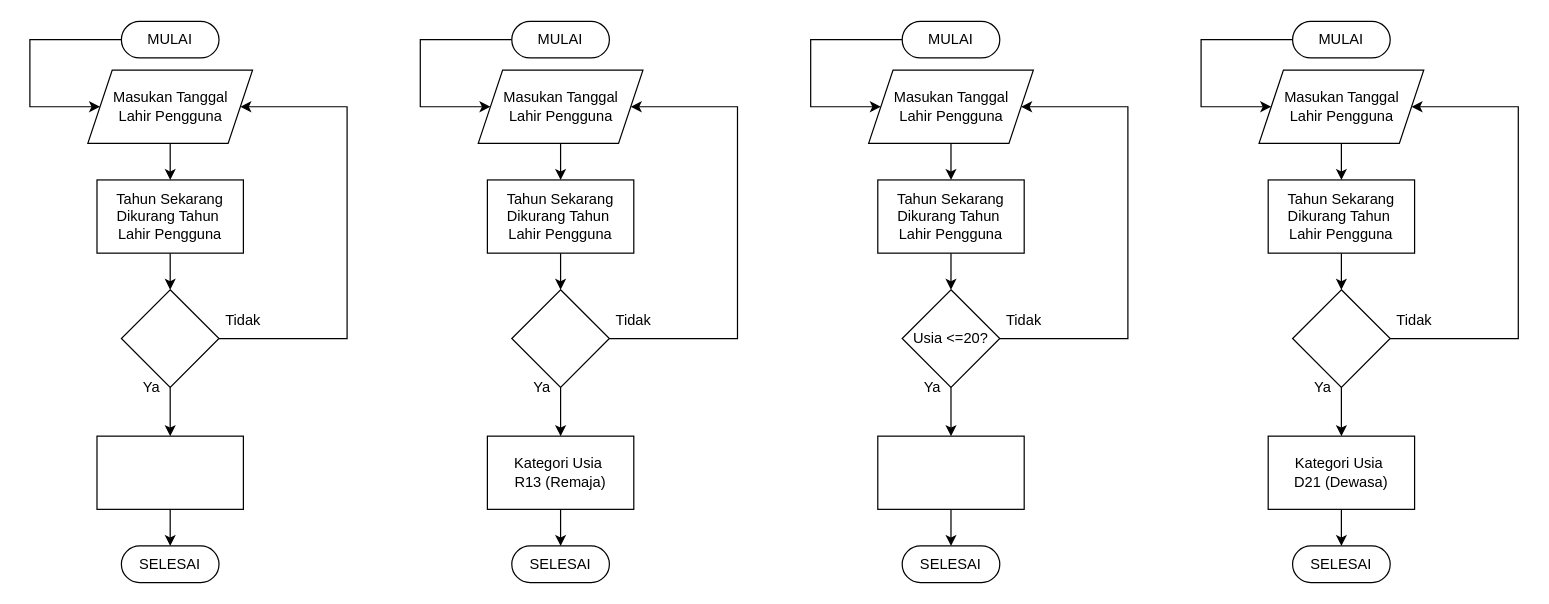
The diagram is 1549 pixels wide and 604 high, and some of its shapes have lost their labels. The centre of each missing label's shape, as x and y in pixels:
"Kategori Usia D17 (Dewasa)" belongs at pixel 950 472.
"Kategori Usia SU (Semua Umur)" belongs at pixel 169 472.
"Usia <=12?" belongs at pixel 169 338.
"Usia <=16?" belongs at pixel 560 338.
"Usia >=21?" belongs at pixel 1340 338.
